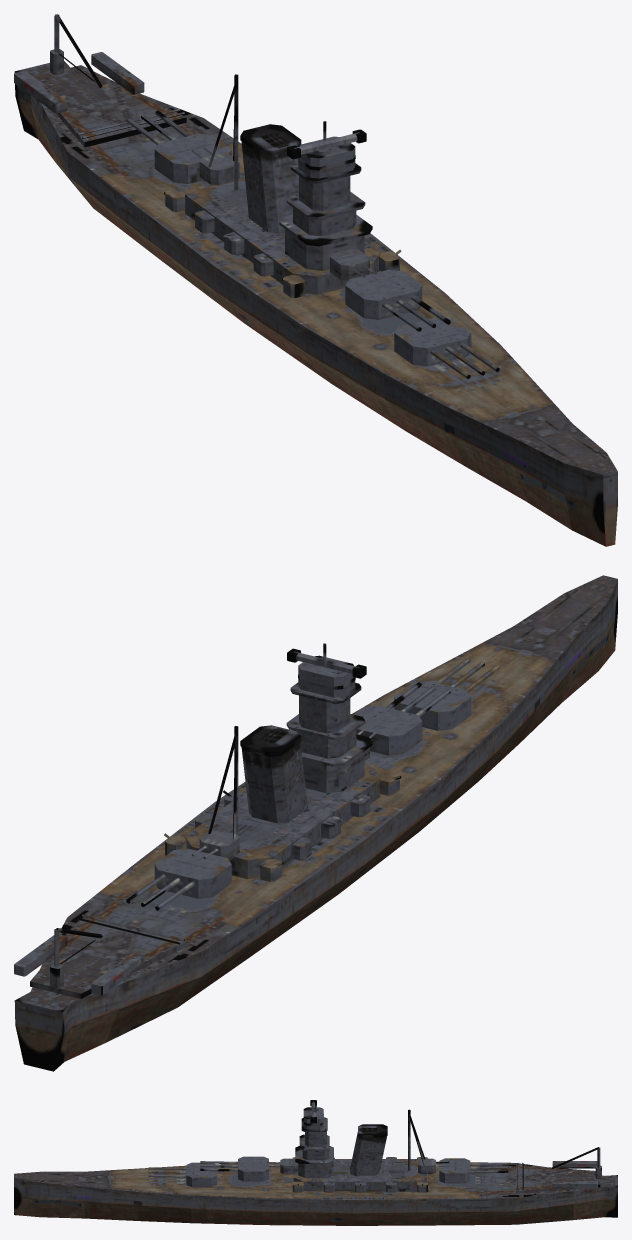
The model's file is simple-medium.glb.
3 renders of one model, top to bottom at view 1: azimuth 30°, elevation 25°; view 2: azimuth 150°, elevation 25°; view 3: azimuth 270°, elevation 25°, orthographic. The views are drawn at different scales.
Visible parts, largest first — view 1: New deck outline, New hull sections, Superstructure base, Aft aviation platform, Funnel, Main turret 2, Main turret 1, Main turret 3, Bridge lower, Bridge tower, Bridge top, Funnel cap (+7 smaller); view 2: New deck outline, New hull sections, Superstructure base, Aft aviation platform, Funnel, Main turret 3, Main turret 2, Main turret 1, Bridge lower, Bridge tower, Bridge top, Funnel cap (+6 smaller); view 3: New hull sections, New deck outline, Superstructure base, Aft aviation platform, Funnel, Main turret 3, Main turret 2, Main turret 1, Bridge lower, Funnel cap, Aft catapult.001, Bridge top (+7 smaller).
Part boxes in pixels (x1,y1,x2,y2): New deck outline: (15, 61, 617, 474); New hull sections: (14, 71, 617, 546); Superstructure base: (185, 171, 380, 294); Aft aviation platform: (34, 65, 186, 147); Funnel: (241, 141, 298, 233); Main turret 2: (345, 269, 422, 319); Main turret 1: (394, 317, 471, 366); Main turret 3: (154, 133, 231, 183); Bridge lower: (285, 229, 364, 270); Bridge tower: (299, 176, 350, 210); Bridge top: (298, 136, 355, 178); Funnel cap: (240, 124, 301, 155); New deck outline: (15, 575, 617, 1011); New hull sections: (14, 579, 617, 1071); Superstructure base: (185, 766, 380, 879); Aft aviation platform: (30, 917, 186, 998); Funnel: (241, 742, 307, 823); Main turret 3: (154, 848, 231, 898); Main turret 2: (354, 705, 422, 755); Main turret 1: (394, 681, 471, 730); Bridge lower: (302, 751, 364, 793); Bridge tower: (299, 695, 350, 733); Bridge top: (298, 655, 355, 697); Funnel cap: (240, 725, 301, 756); New hull sections: (14, 1177, 617, 1225); New deck outline: (14, 1161, 617, 1199); Superstructure base: (293, 1159, 426, 1191); Aft aviation platform: (516, 1164, 600, 1193); Funnel: (350, 1132, 386, 1175); Main turret 3: (439, 1158, 470, 1183); Main turret 2: (238, 1156, 268, 1181); Main turret 1: (186, 1162, 217, 1187); Bridge lower: (298, 1162, 333, 1177); Funnel cap: (358, 1124, 387, 1137); Aft catapult.001: (552, 1181, 597, 1188); Bridge top: (303, 1107, 323, 1129).
Size of the model in its own units: 20.78 by 28.2 by 136.
Materials: 1 (1 with a texture image).
